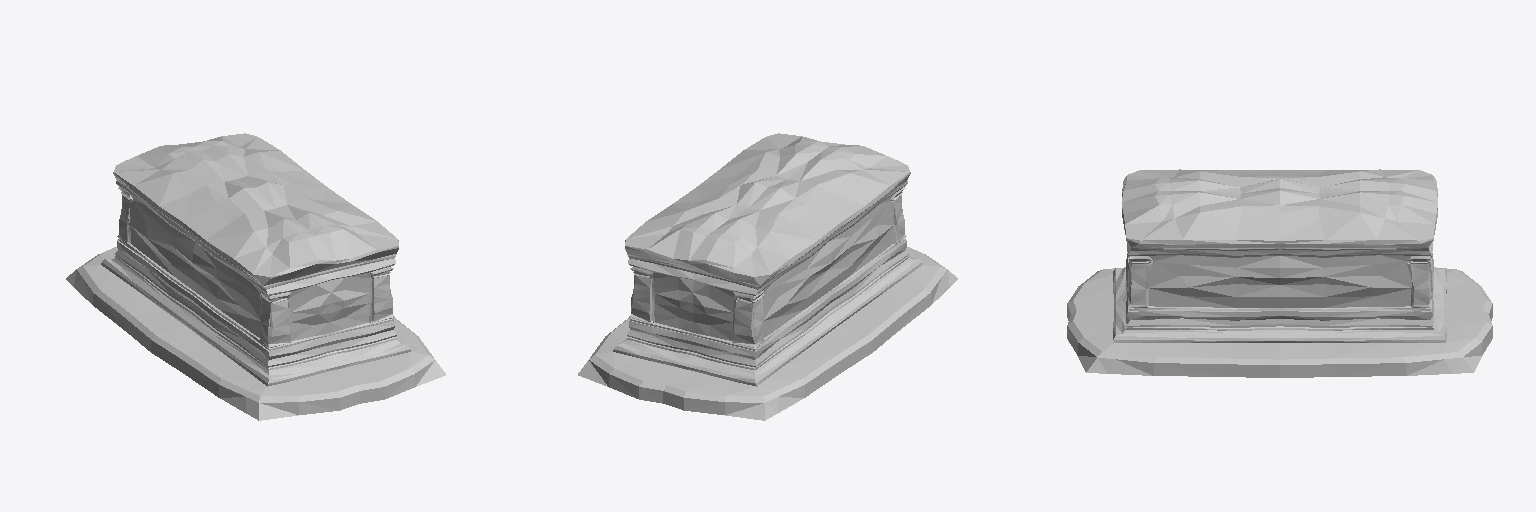
The model's file is tomb.obj.
3 renders of one model, left to right at view 1: azimuth 30°, elevation 25°; view 2: azimuth 150°, elevation 25°; view 3: azimuth 270°, elevation 25°, orthographic.
Parts seen in each view (by area): view 1: kulma2_meshId0_name, kulma2.001_meshId1_name; view 2: kulma2_meshId0_name, kulma2.001_meshId1_name; view 3: kulma2_meshId0_name, kulma2.001_meshId1_name.
Part boxes in pixels (x1,y1,x2,y2): kulma2_meshId0_name: (66, 133, 445, 420); kulma2.001_meshId1_name: (117, 187, 394, 347); kulma2_meshId0_name: (578, 133, 957, 420); kulma2.001_meshId1_name: (629, 187, 906, 347); kulma2_meshId0_name: (1067, 169, 1492, 377); kulma2.001_meshId1_name: (1127, 256, 1432, 307).
Bounding box in the file's own units: 1.14 × 0.7358 × 2.